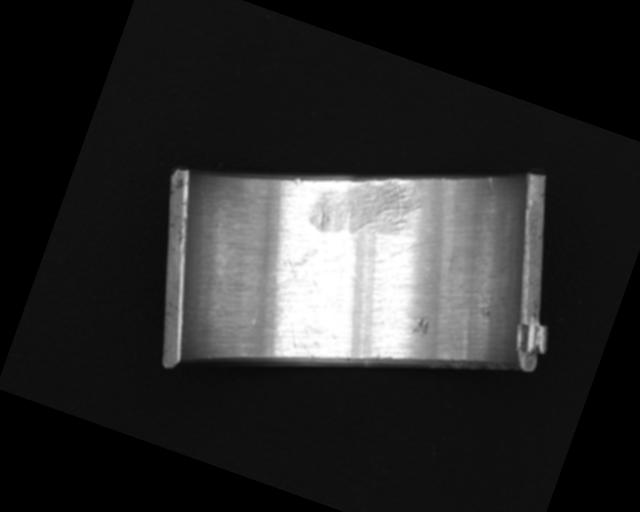blot: (269, 234, 331, 299)
bruise: (409, 314, 432, 338), (290, 175, 304, 187)
nick: (486, 175, 498, 190)
scratch: (304, 155, 430, 263)
